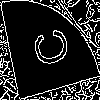C: (25, 25, 70, 72)
